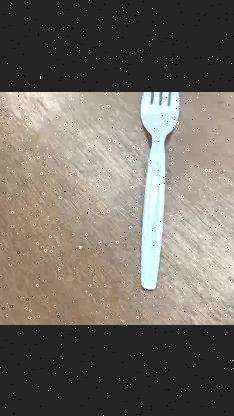Others: (140, 91, 180, 289)
